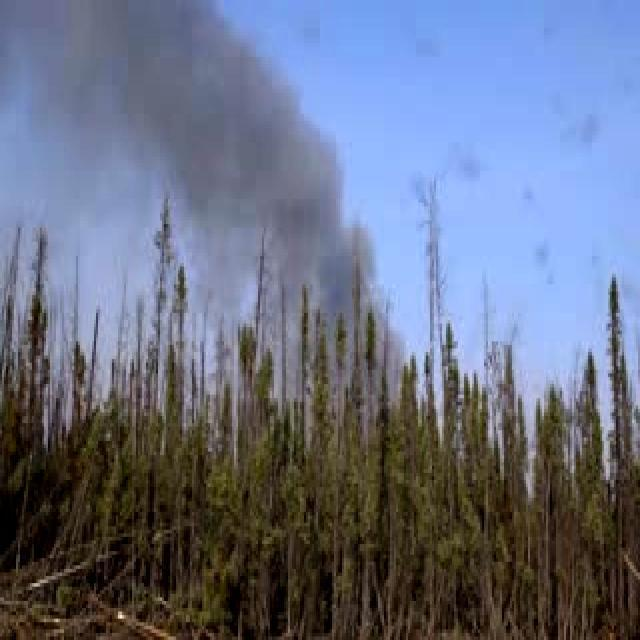Smoke: (92, 0, 410, 373)
